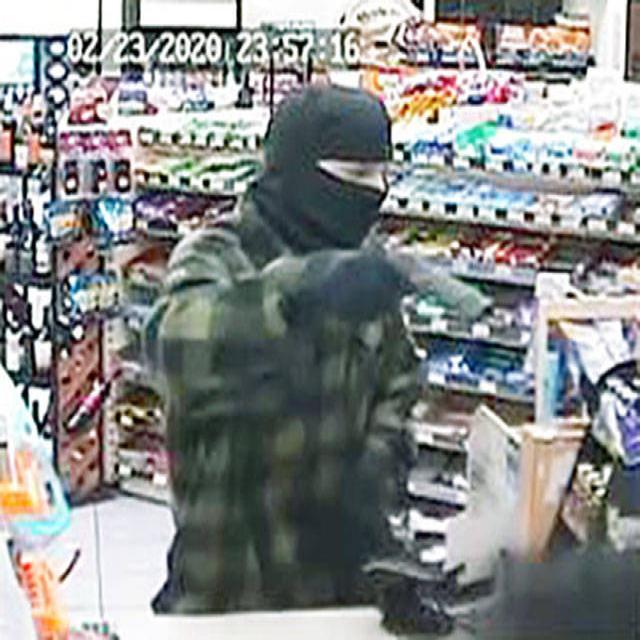Gun: (355, 224, 503, 344)
